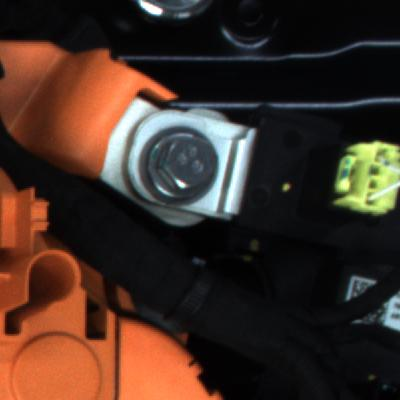nut_b: (132, 113, 230, 206)
